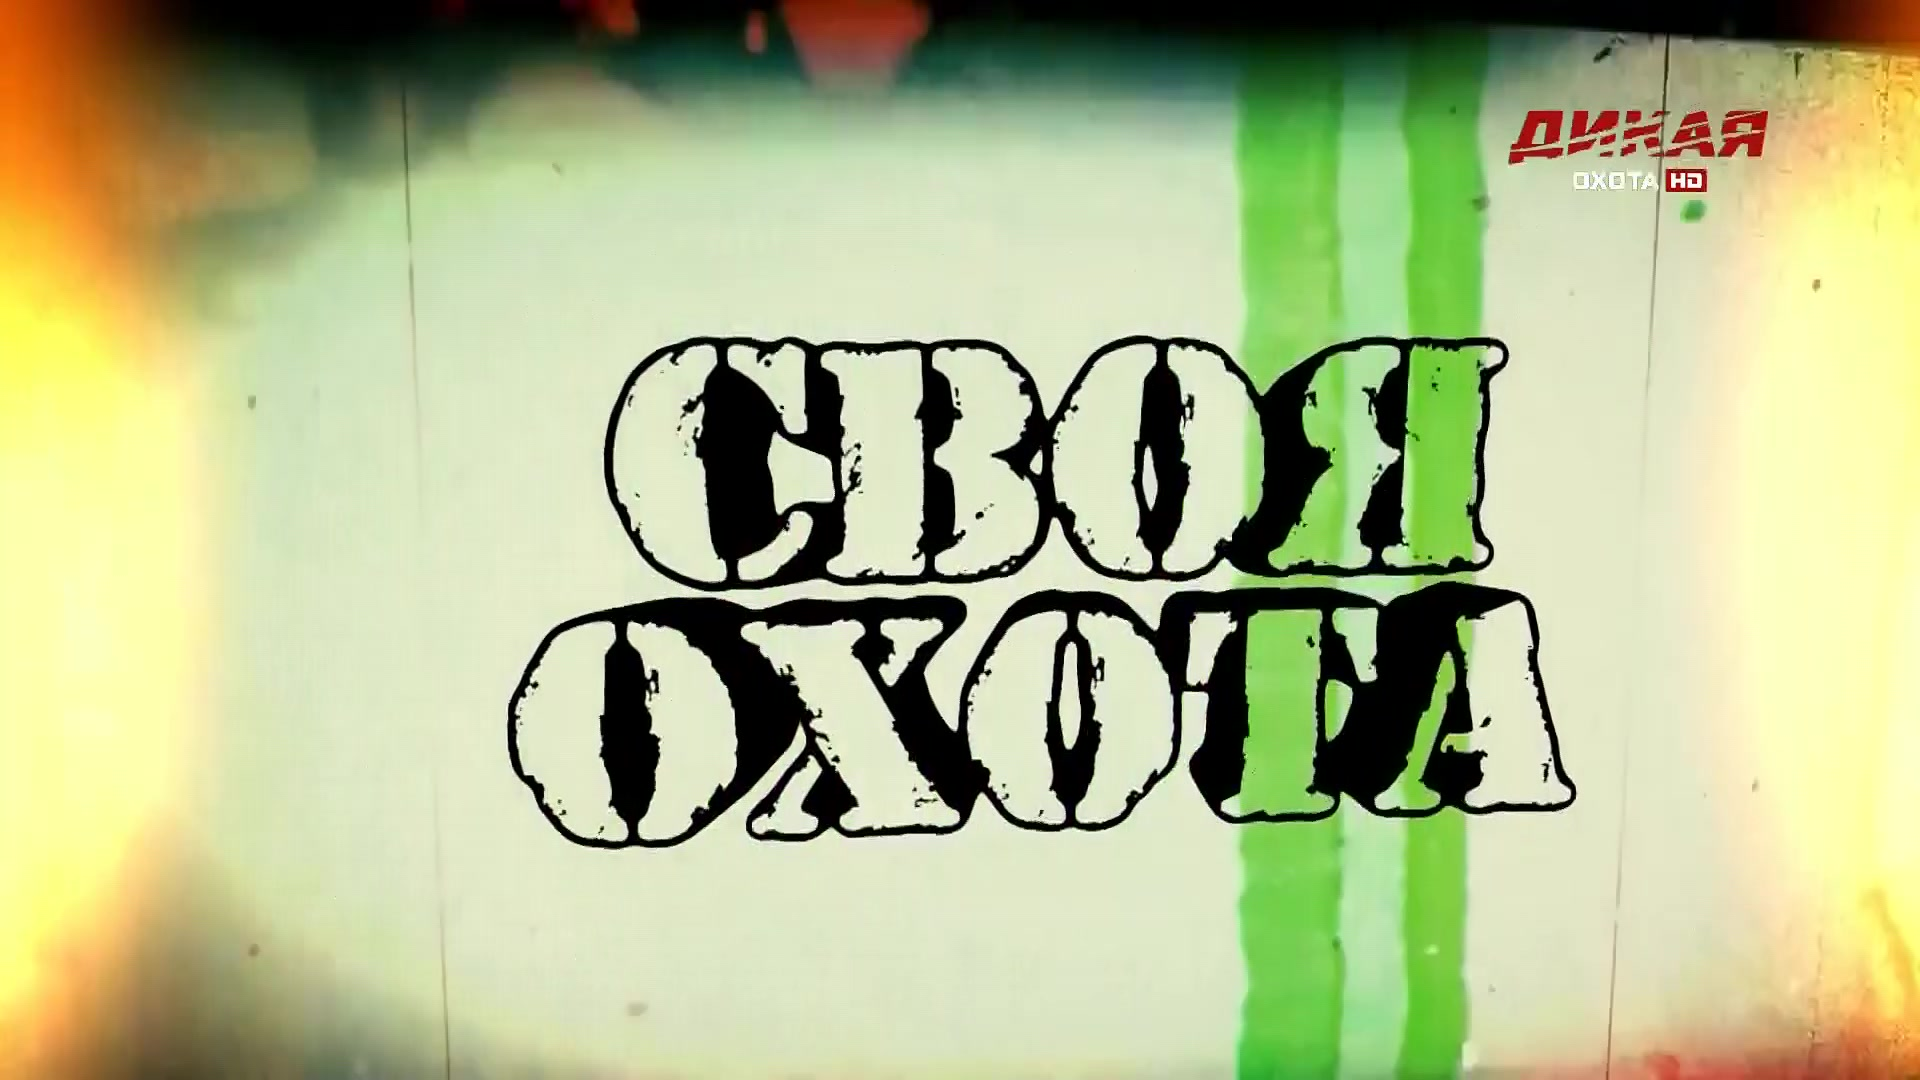Dikaya_Ohota_HD: (1501, 105, 1774, 194)
